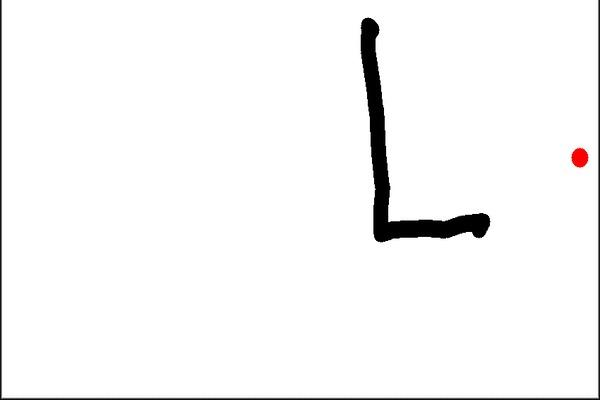L: (352, 8, 499, 248)
